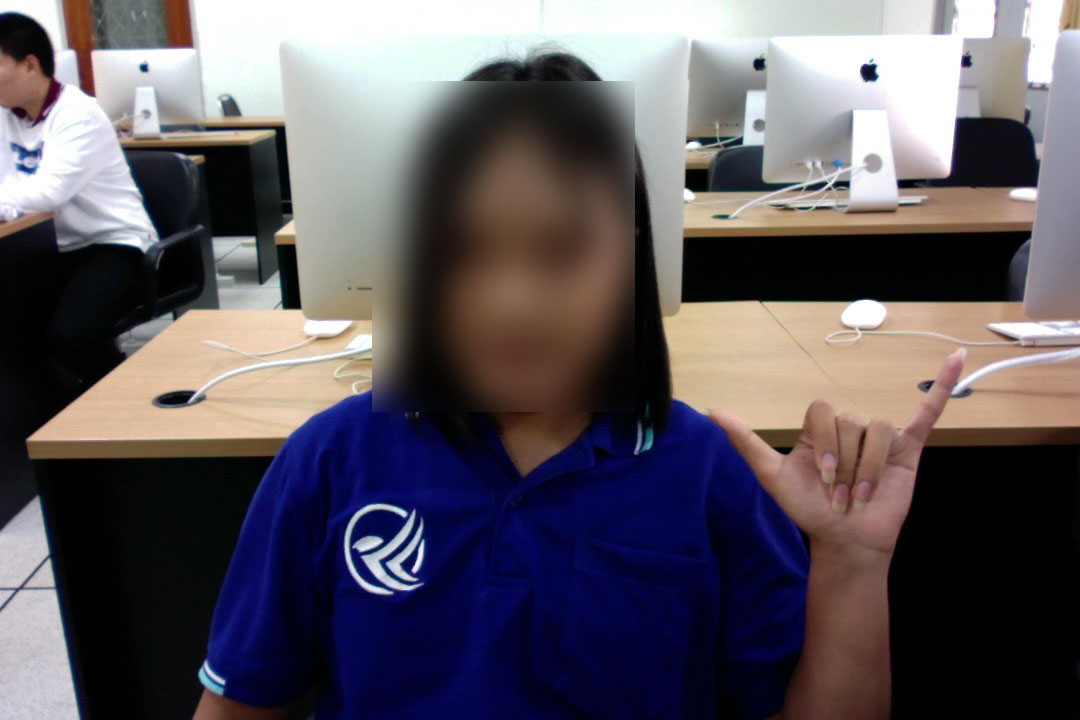yor: (696, 341, 978, 558)
